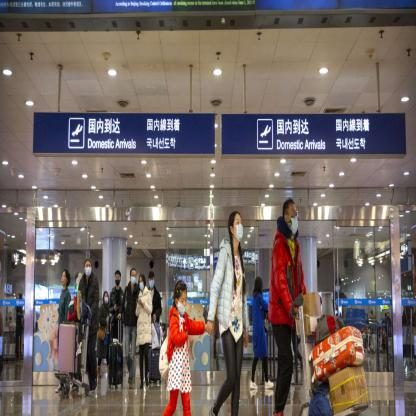Not_Wearing_Mask: (61, 272, 66, 286)
Wearing_Mask: (233, 216, 244, 242), (288, 206, 298, 234), (84, 262, 92, 277), (114, 273, 120, 286), (131, 271, 136, 285), (148, 277, 154, 287), (139, 277, 143, 290), (104, 294, 109, 302)
